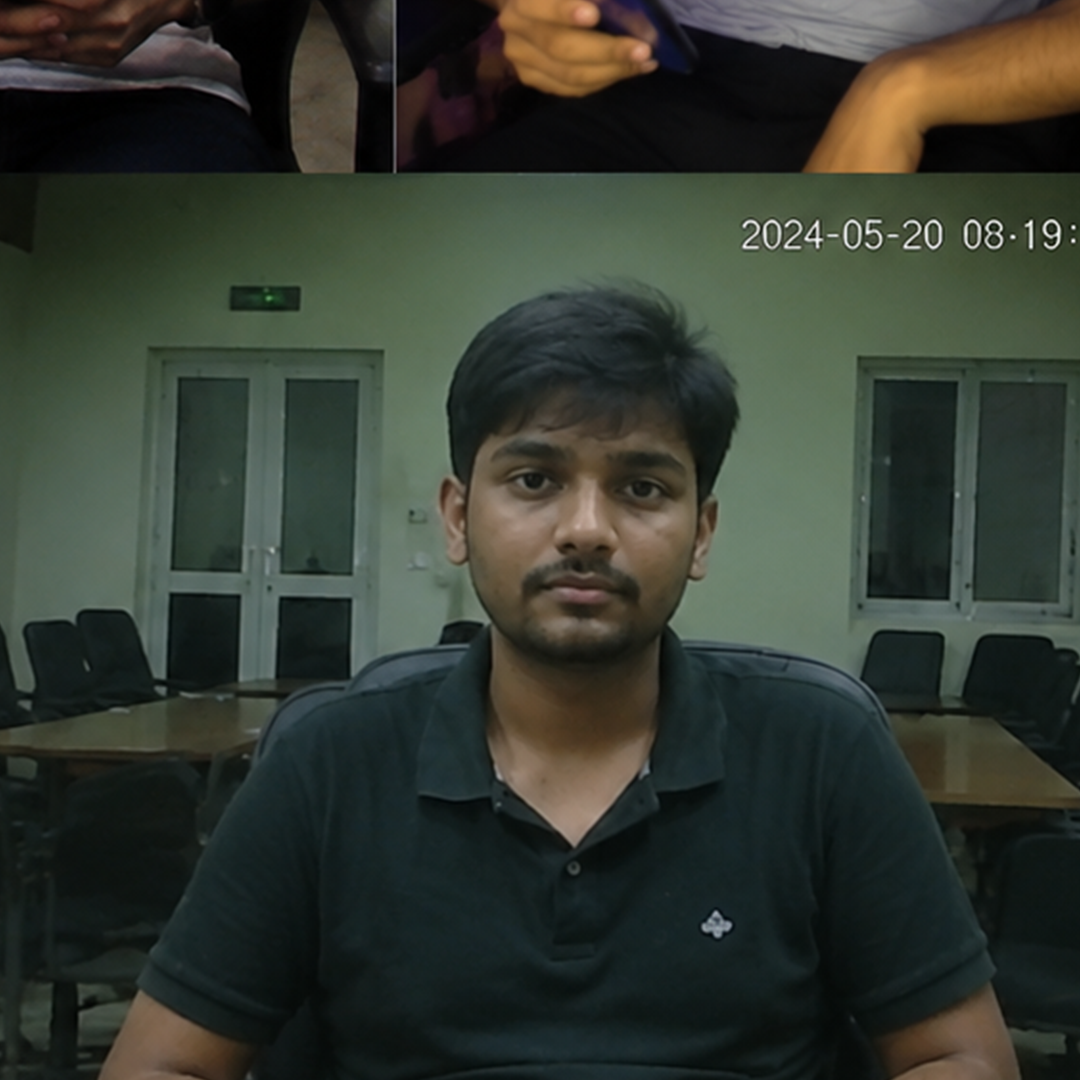Focused: (357, 270, 834, 1008)
